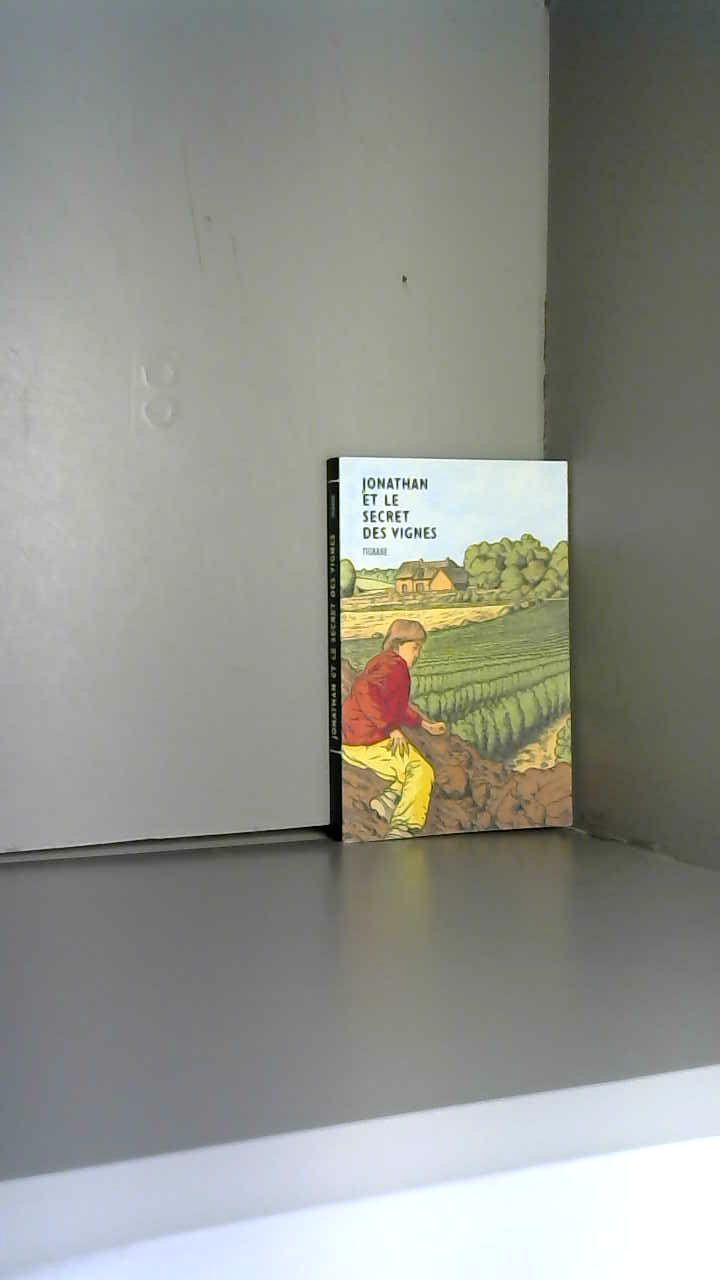book: (300, 430, 720, 870)
